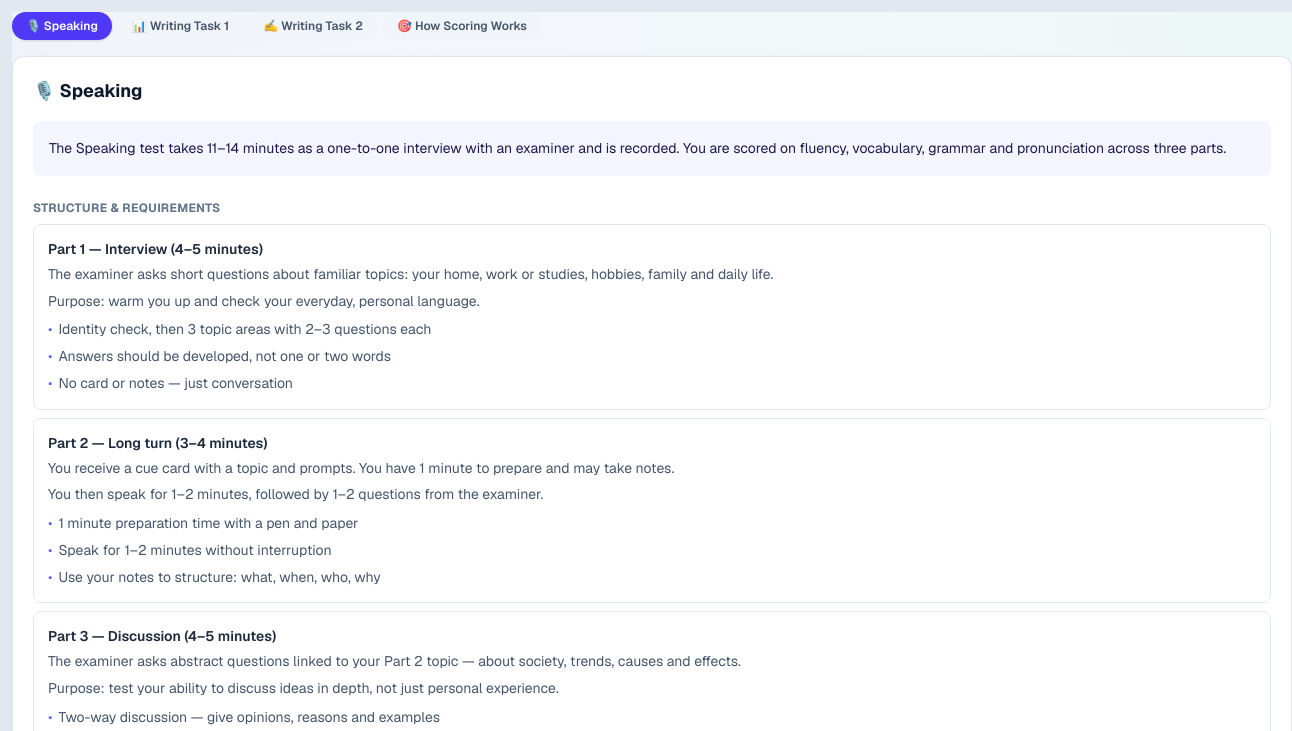
Scenario: GuideHub › switches topics via the pill tabs
Click the button "📊 Writing Task 1" at (180, 26), box [118,12,243,40]
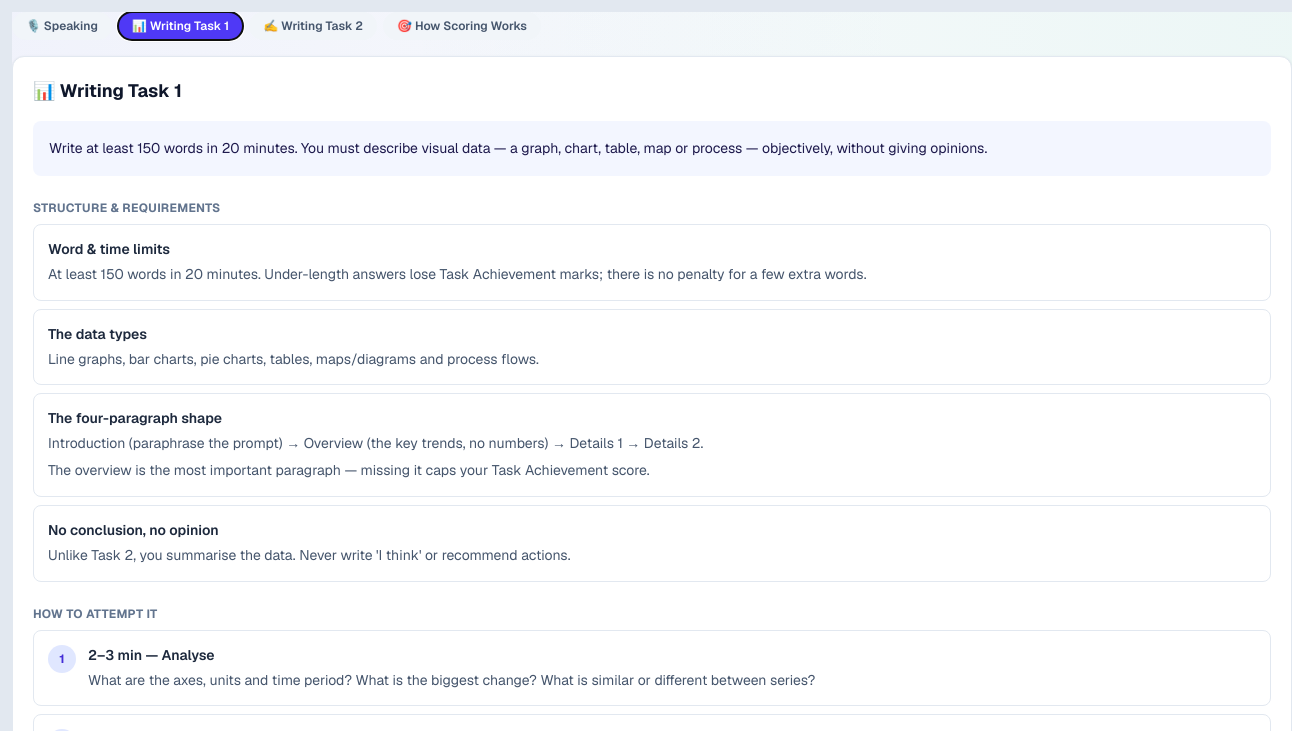
Expected: the text "Write at least 150 words in 20 minutes" is shown, [49,139,987,157]
Expected: the text "Word & time limits" is shown, [48,240,170,258]
